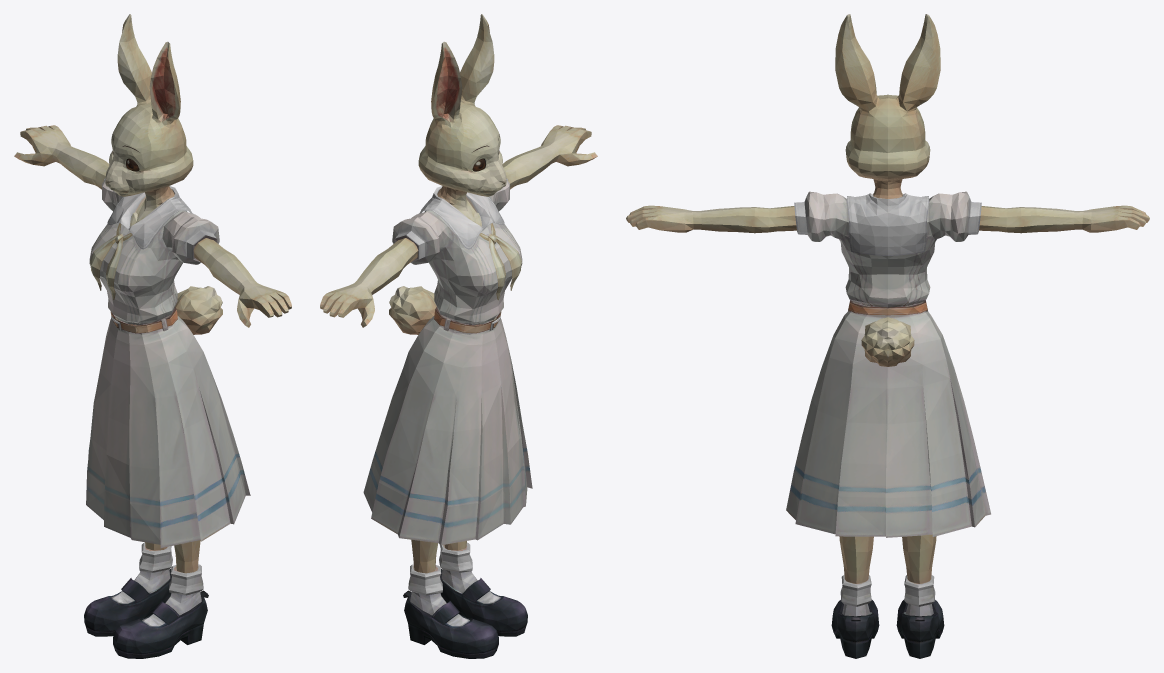
The model's file is OffensiveIdleAC_(2).glb.
3 renders of one model, left to right at view 1: azimuth 30°, elevation 25°; view 2: azimuth 150°, elevation 25°; view 3: azimuth 270°, elevation 25°, orthographic. The views are drawn at different scales.
Parts seen in each view (by area): view 1: Object_acmat_3_0, Object_acmat_2_0, Object_acmat_1_0; view 2: Object_acmat_3_0, Object_acmat_2_0, Object_acmat_1_0; view 3: Object_acmat_3_0, Object_acmat_2_0.
Part boxes in pixels (bbox=[...]): Object_acmat_3_0: bbox=[14, 14, 291, 658]; Object_acmat_2_0: bbox=[111, 542, 203, 626]; Object_acmat_1_0: bbox=[90, 223, 132, 300]; Object_acmat_3_0: bbox=[320, 14, 597, 658]; Object_acmat_2_0: bbox=[408, 542, 500, 626]; Object_acmat_1_0: bbox=[479, 223, 521, 300]; Object_acmat_3_0: bbox=[626, 14, 1149, 658]; Object_acmat_2_0: bbox=[840, 575, 935, 616].
Size of the model in its own units: 0.5718 by 2.5 by 1.9.
Materials: 4 (4 with a texture image).
